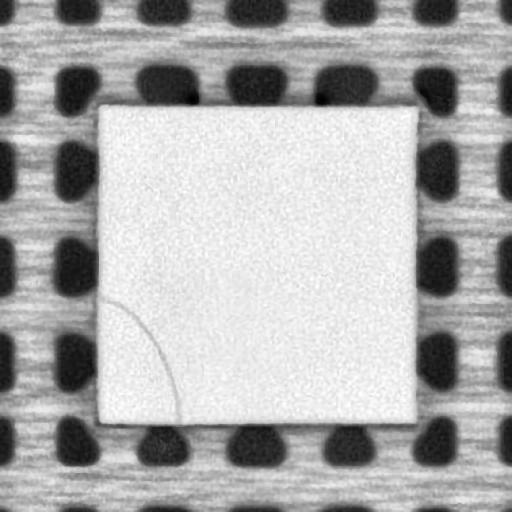DIE_CRACK: (110, 299, 184, 420)
